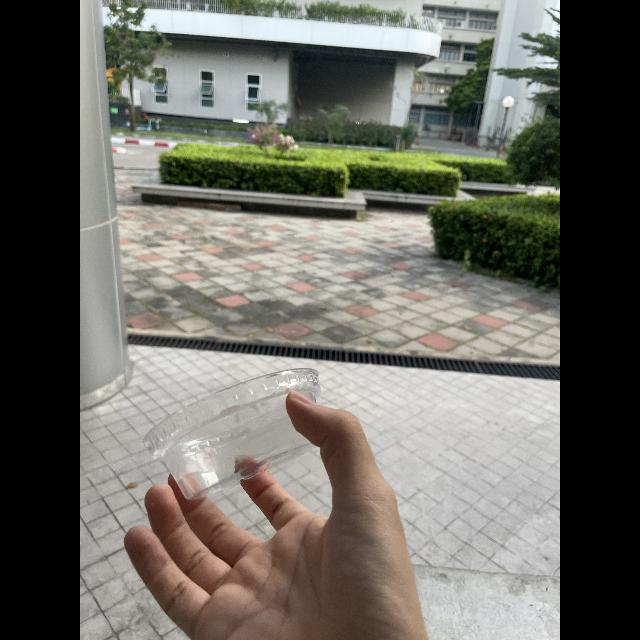plastic_cup_lid: (139, 362, 333, 496)
